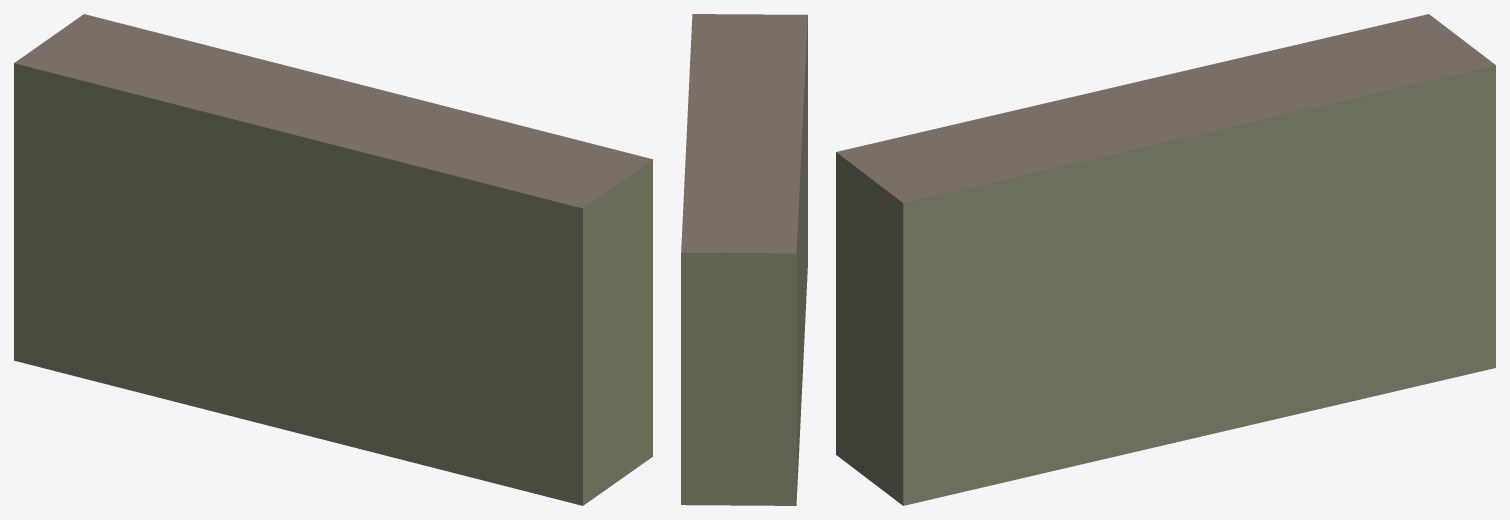
The model's file is nyc-1034269-0.glb.
3 renders of one model, left to right at view 1: azimuth 30°, elevation 25°; view 2: azimuth 150°, elevation 25°; view 3: azimuth 270°, elevation 25°, orthographic. The views are drawn at different scales.
Visible parts, largest first — view 1: nyc-1034269-0; view 2: nyc-1034269-0; view 3: nyc-1034269-0.
Boxes of the visible parts, x1=… form: nyc-1034269-0: x1=14, y1=14, x2=652, y2=505; nyc-1034269-0: x1=681, y1=14, x2=807, y2=505; nyc-1034269-0: x1=836, y1=14, x2=1495, y2=505.
Size of the model in its own units: 20.64 by 15.41 by 30.43.
